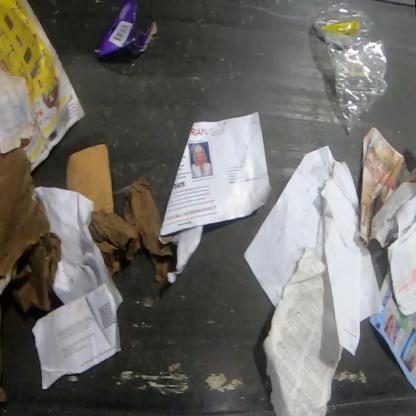cardboard: (65, 142, 174, 284), (0, 145, 62, 312), (95, 0, 158, 57)
rigid_plastic: (315, 4, 388, 135)
